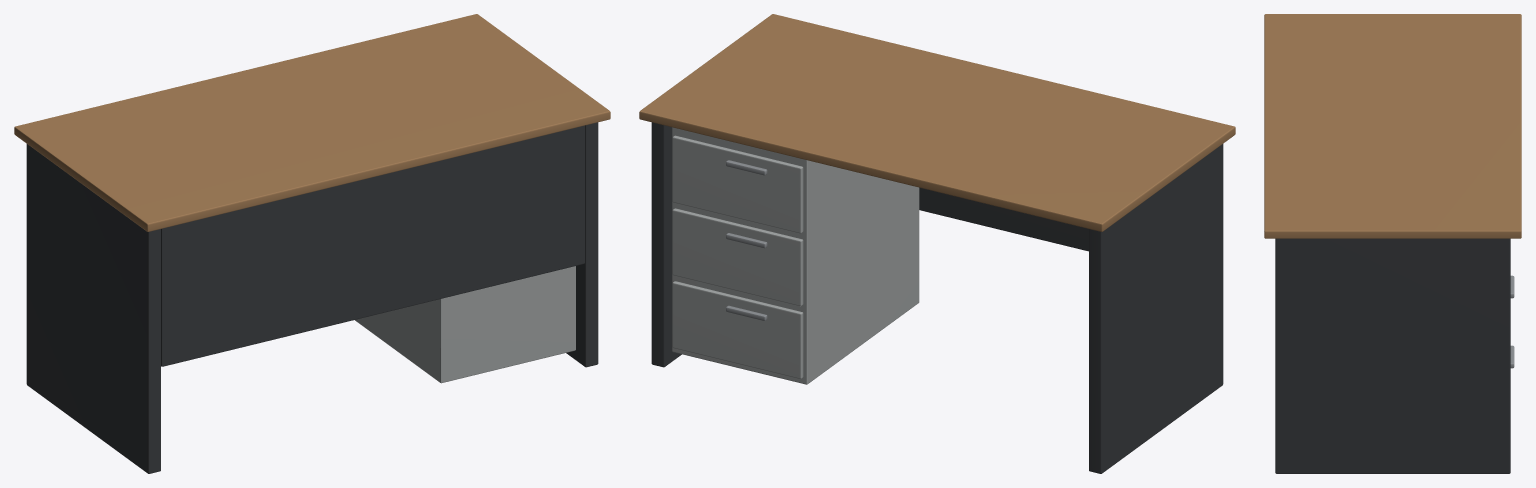
The model's file is prop_desk_office.glb.
3 renders of one model, left to right at view 1: azimuth 30°, elevation 25°; view 2: azimuth 150°, elevation 25°; view 3: azimuth 270°, elevation 25°, orthographic. The views are drawn at different scales.
Visible parts, largest first — view 1: Desk; view 2: Desk; view 3: Desk.
Boxes of the visible parts, left/top/right/bottom form: Desk: left=14, top=14, right=610, bottom=473; Desk: left=639, top=14, right=1235, bottom=473; Desk: left=1264, top=14, right=1521, bottom=473.
Size of what is drawn, in the model's own units: 1.4 by 0.74 by 0.7.
